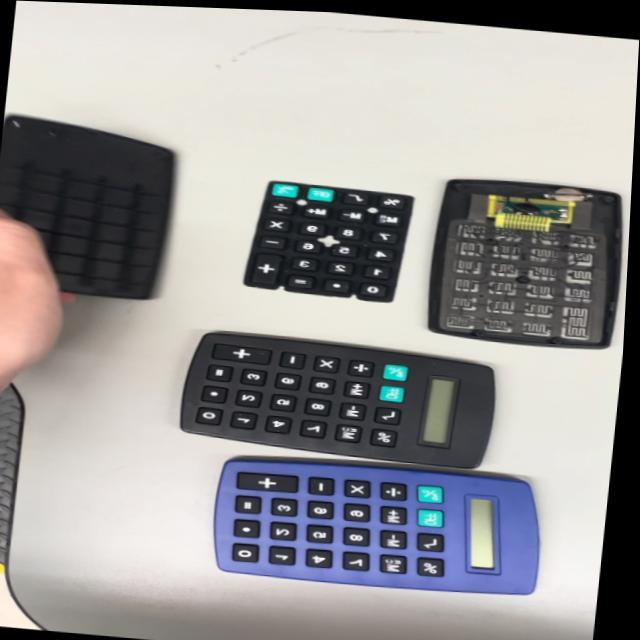calculator: (195, 447, 557, 608), (171, 333, 520, 471)
front_panel: (420, 168, 628, 356)
number_pad: (237, 173, 423, 305)
